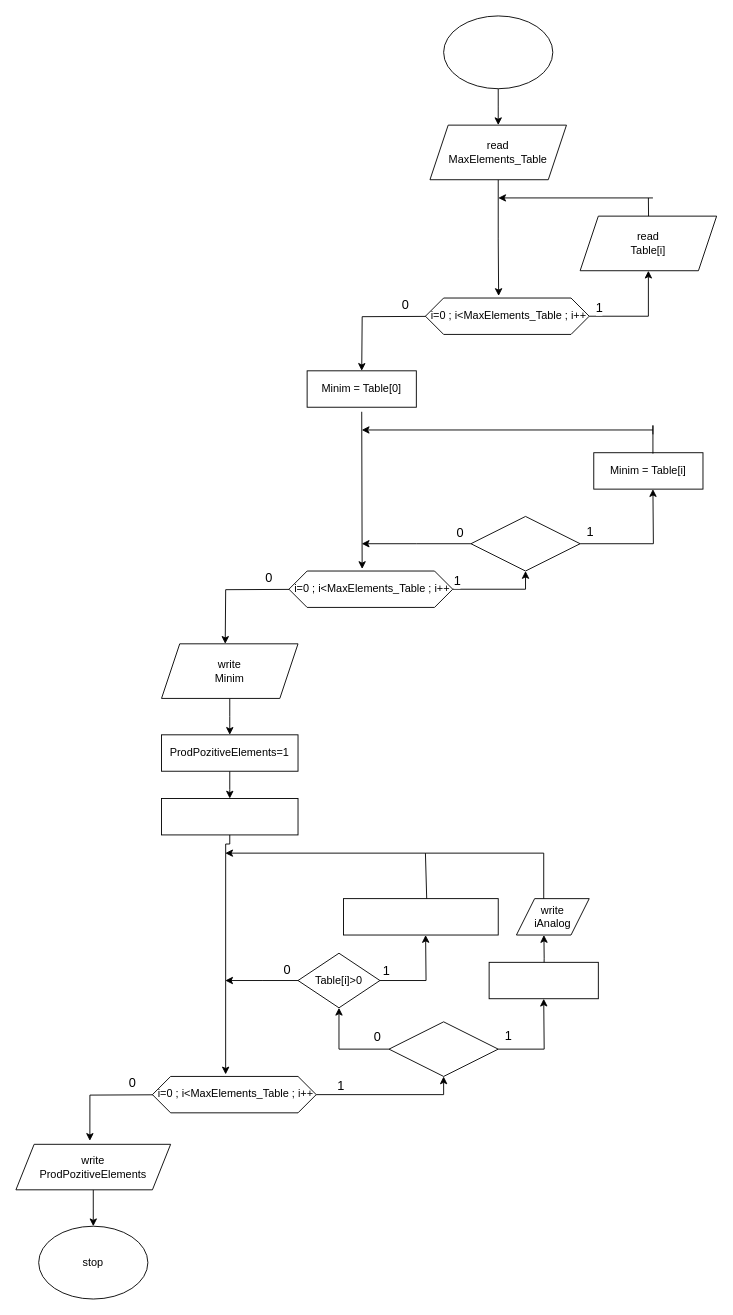
The diagram is 733 pixels wide and 1315 high, and some of its shapes have lost their labels. Each missing label, with the box of its shape:
iAnalog: (161, 798, 298, 835)
iAnalog=i+1: (488, 961, 598, 999)
Minim==Table[i]: (388, 1021, 498, 1076)
Minim>Table[i]: (470, 516, 580, 571)
ProdPozitiveElements*=Table[i]: (343, 898, 498, 935)
start: (443, 15, 553, 89)
